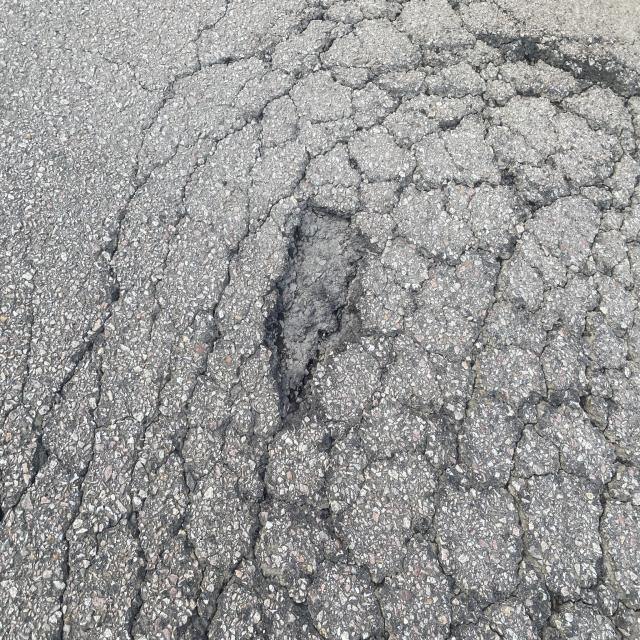pothole: (254, 170, 414, 474)
